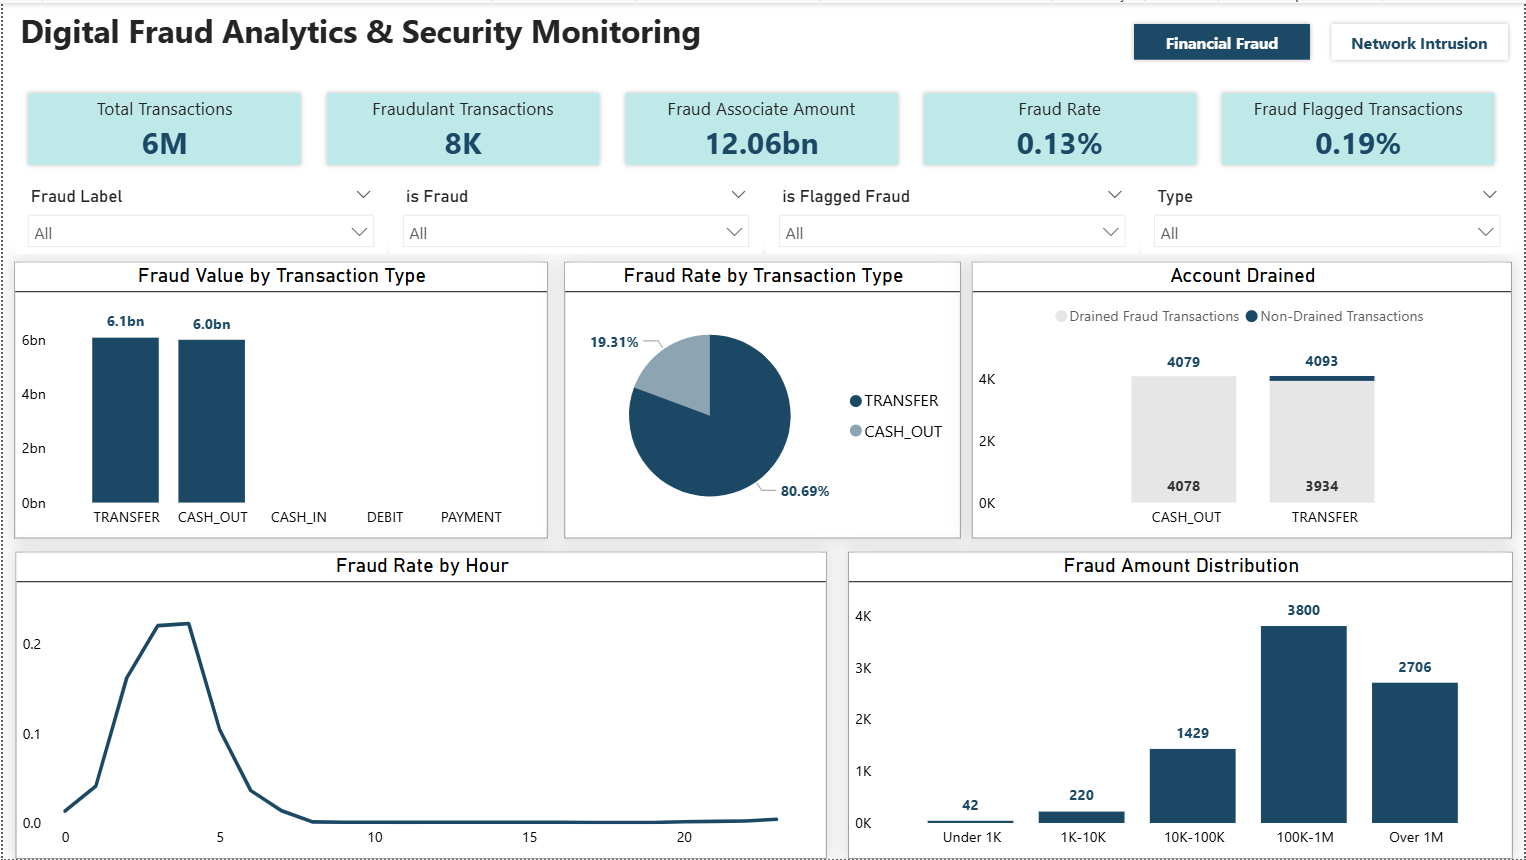

The page's visual inventory and layout, read from the dashboard file:
{"tool":"powerbi","page":{"name":"Financial Fraud","canvas":[1280,720],"ordinal":0},"visuals":[{"type":"textbox","box":[9.3,0,595.4,52.3],"z":0},{"type":"slicer","fields":{"Values":["paysim_clean.fraud_label"]},"box":[10.5,148.8,311.8,61.6],"z":0,"group":"g1"},{"type":"cardVisual","fields":{"Data":["paysim_clean.Total Transactions","paysim_clean.Fraudulant Transactions","paysim_clean.Fraud Associate Amount","paysim_clean.Fraud Rate","paysim_clean.Fraud Flagged Transactions"]},"box":[9.3,64,1261.6,84.9],"z":1000},{"type":"slicer","fields":{"Values":["paysim_clean.isFraud"]},"box":[326.3,148.8,311.8,61.6],"z":1000,"group":"g1"},{"type":"slicer","fields":{"Values":["paysim_clean.isFlaggedFraud"]},"box":[642.2,148.8,311.8,61.6],"z":2000,"group":"g1"},{"type":"clusteredColumnChart","title":"Fraud Value by Transaction Type","fields":{"Category":["paysim_clean.type"],"Y":["paysim_clean.Fraud Associate Amount"]},"box":[9.3,217.4,448.8,232.6],"z":2000},{"type":"slicer","fields":{"Values":["paysim_clean.type"]},"box":[958,148.8,311.8,61.6],"z":3000,"group":"g1"},{"type":"pieChart","title":"Fraud Rate by Transaction Type","fields":{"Category":["paysim_clean.type"],"Y":["paysim_clean.Fraud Rate"]},"box":[472.1,217.4,333.7,232.6],"z":3000},{"type":"lineChart","fields":{"Category":["paysim_clean.Hour"],"Y":["paysim_clean.Fraud Rate"]},"box":[10.5,461.6,682.6,258.1],"z":4000},{"type":"columnChart","title":"Account Drained","fields":{"Category":["paysim_clean.type"],"Y":["paysim_clean.Drained Fraud Transactions","paysim_clean.Non-Drained Transactions"]},"box":[815.1,217.4,454.7,232.6],"z":5000},{"type":"clusteredColumnChart","title":"Fraud Amount Distribution","fields":{"Category":["AmountBands.Amount Band"],"Y":["AmountBands.Fraud Count by Bin"]},"box":[710.5,461.6,559.3,258.1],"z":6000},{"type":"pageNavigator","box":[947.5,13.8,323.8,38.8],"z":7000},{"type":"group","id":"g1","title":"Group 1","box":[10.5,148.8,1259.3,61.6],"z":7005}]}

Visuals, with their boxes in screenshot pixels (x1, y1, x2, y2), scaled from the page's 1280x720 canvas onto the 1526x860 screenshot:
textbox: <box>11,0,721,62</box>
slicer - paysim_clean.fraud_label: <box>13,178,384,251</box>
cardVisual - paysim_clean.Total Transactions x paysim_clean.Fraudulant Transactions: <box>11,76,1515,178</box>
slicer - paysim_clean.isFraud: <box>389,178,761,251</box>
slicer - paysim_clean.isFlaggedFraud: <box>766,178,1137,251</box>
"Fraud Value by Transaction Type" clusteredColumnChart: <box>11,260,546,538</box>
slicer - paysim_clean.type: <box>1142,178,1514,251</box>
"Fraud Rate by Transaction Type" pieChart: <box>563,260,961,538</box>
lineChart - paysim_clean.Hour x paysim_clean.Fraud Rate: <box>13,551,826,859</box>
"Account Drained" columnChart: <box>972,260,1514,538</box>
"Fraud Amount Distribution" clusteredColumnChart: <box>847,551,1514,859</box>
pageNavigator: <box>1130,16,1516,63</box>
"Group 1" group: <box>13,178,1514,251</box>
